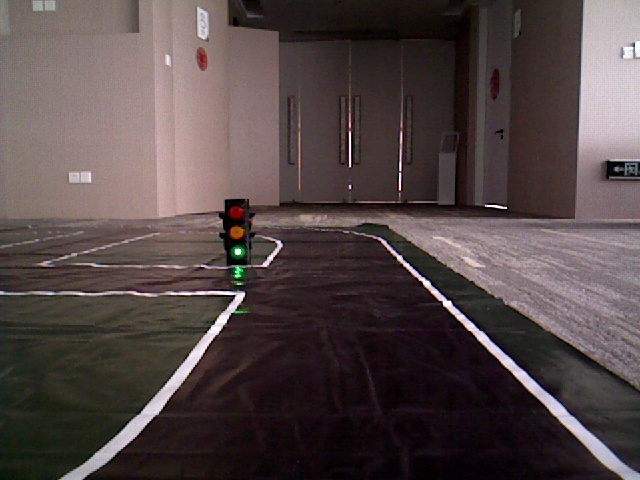green: (224, 203, 249, 257)
